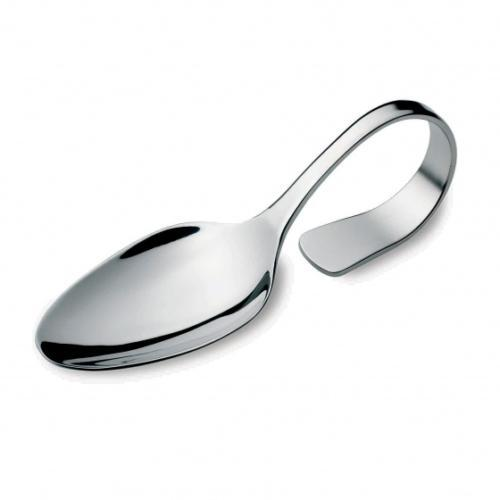Spoon: (35, 99, 458, 371)
